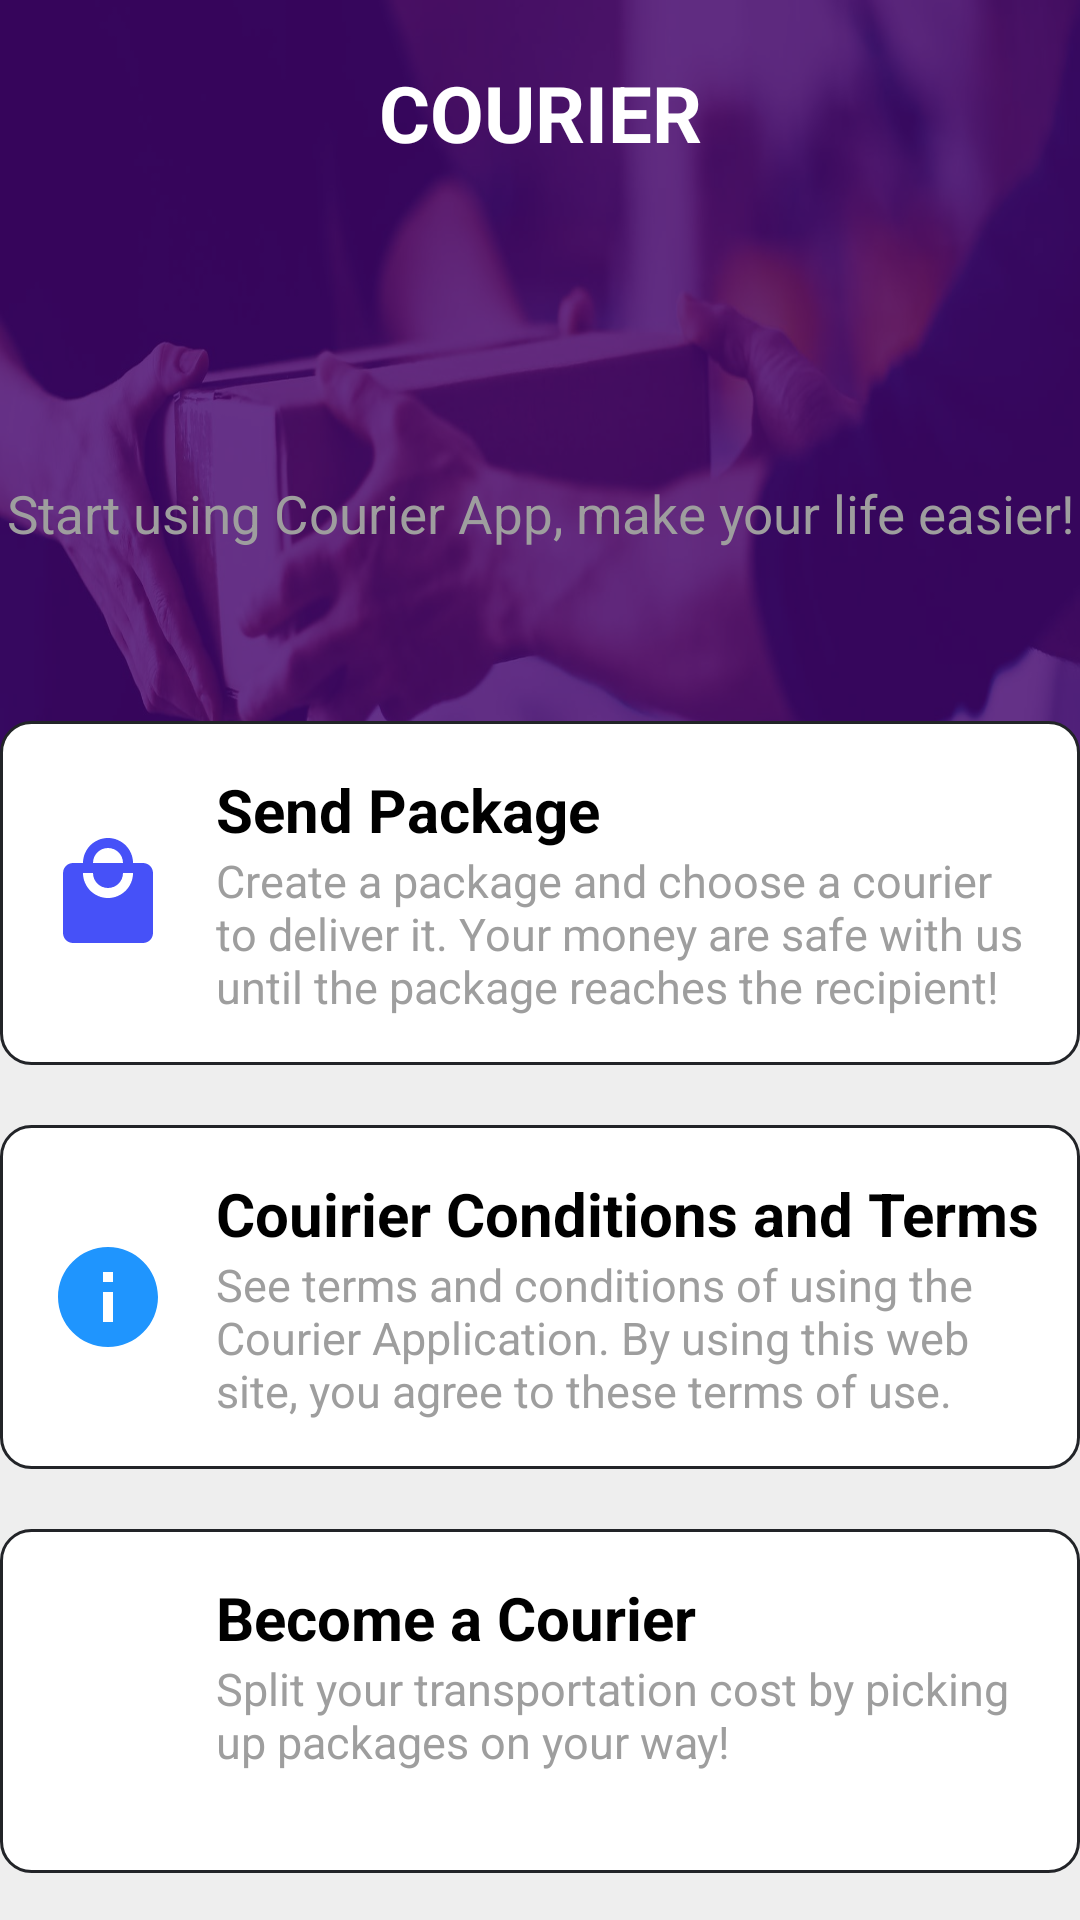

Locate icon controls on the screen. Image size 1080x1920, boxes as {"x1": x1, "y1": y1, "x2": x2, "y2": y2}.
info: {"x1": 58, "y1": 1247, "x2": 158, "y2": 1347}
local mall: {"x1": 63, "y1": 838, "x2": 153, "y2": 943}
